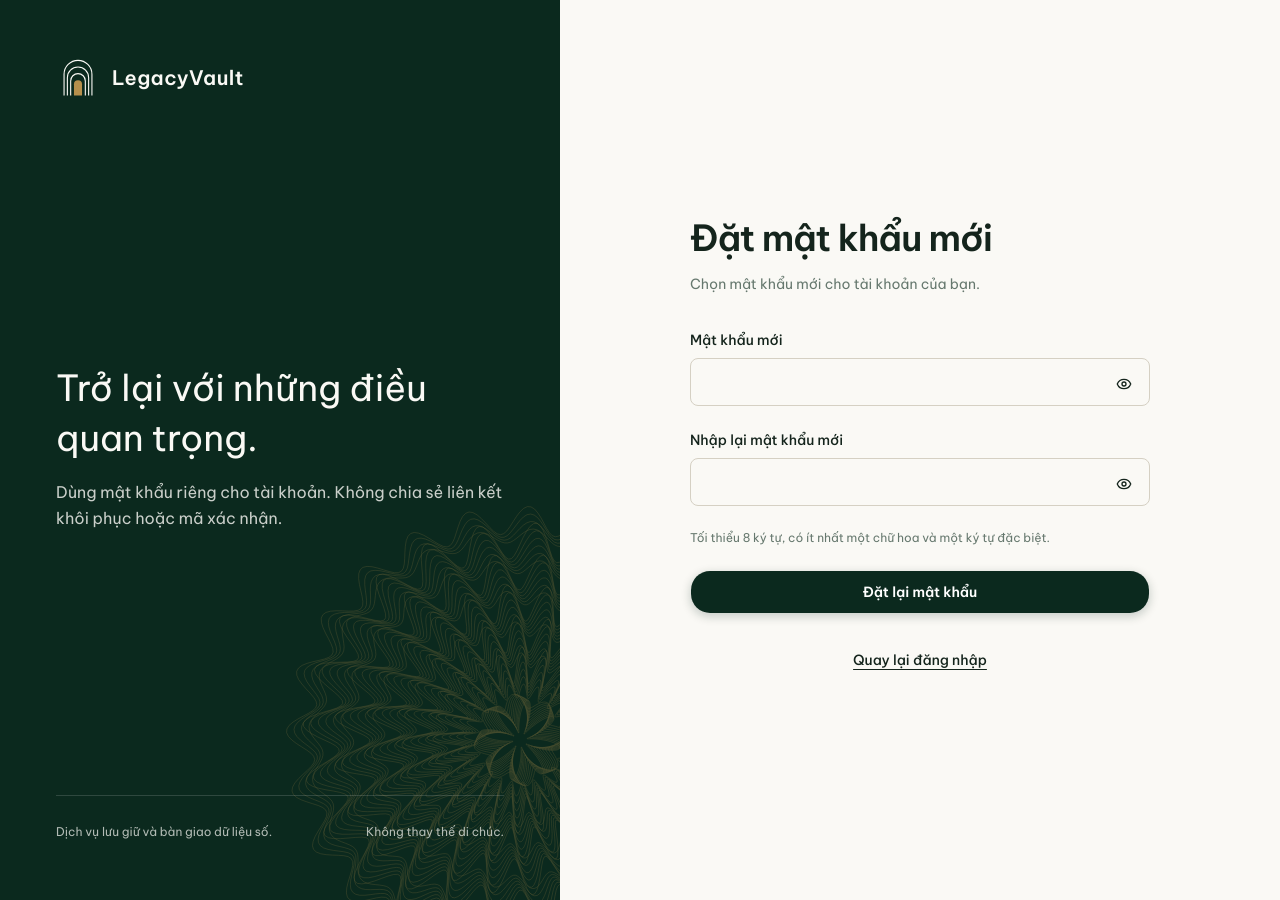
Test case: retains the form on network failure without claiming success
Type "Abcdefg!" into the password field labelled "Mật khẩu mới". click: (920, 382)
box: [690,358,1150,406]
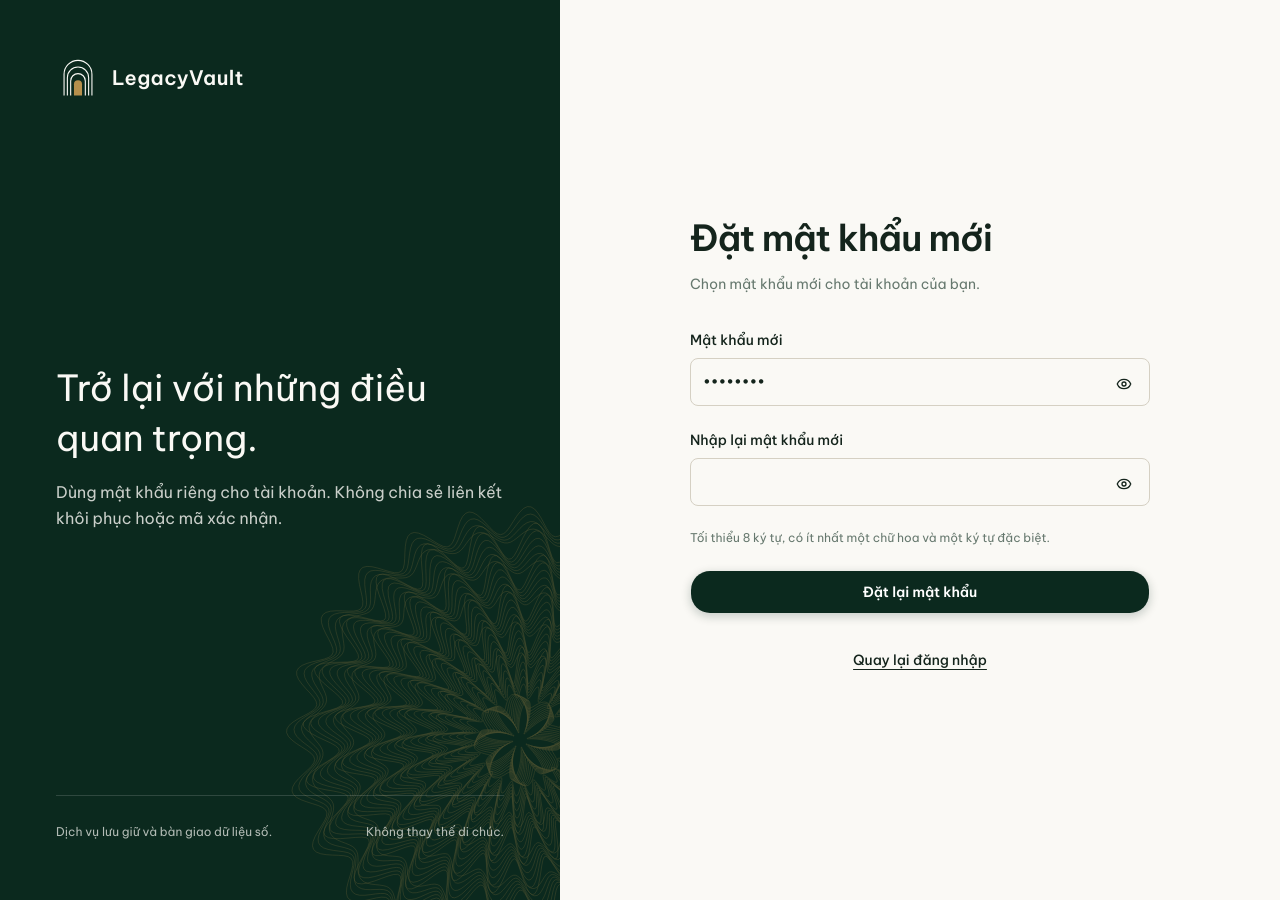
Type "Abcdefg!" into the password field labelled "Nhập lại mật khẩu mới". click: (920, 482)
box: [690,458,1150,506]
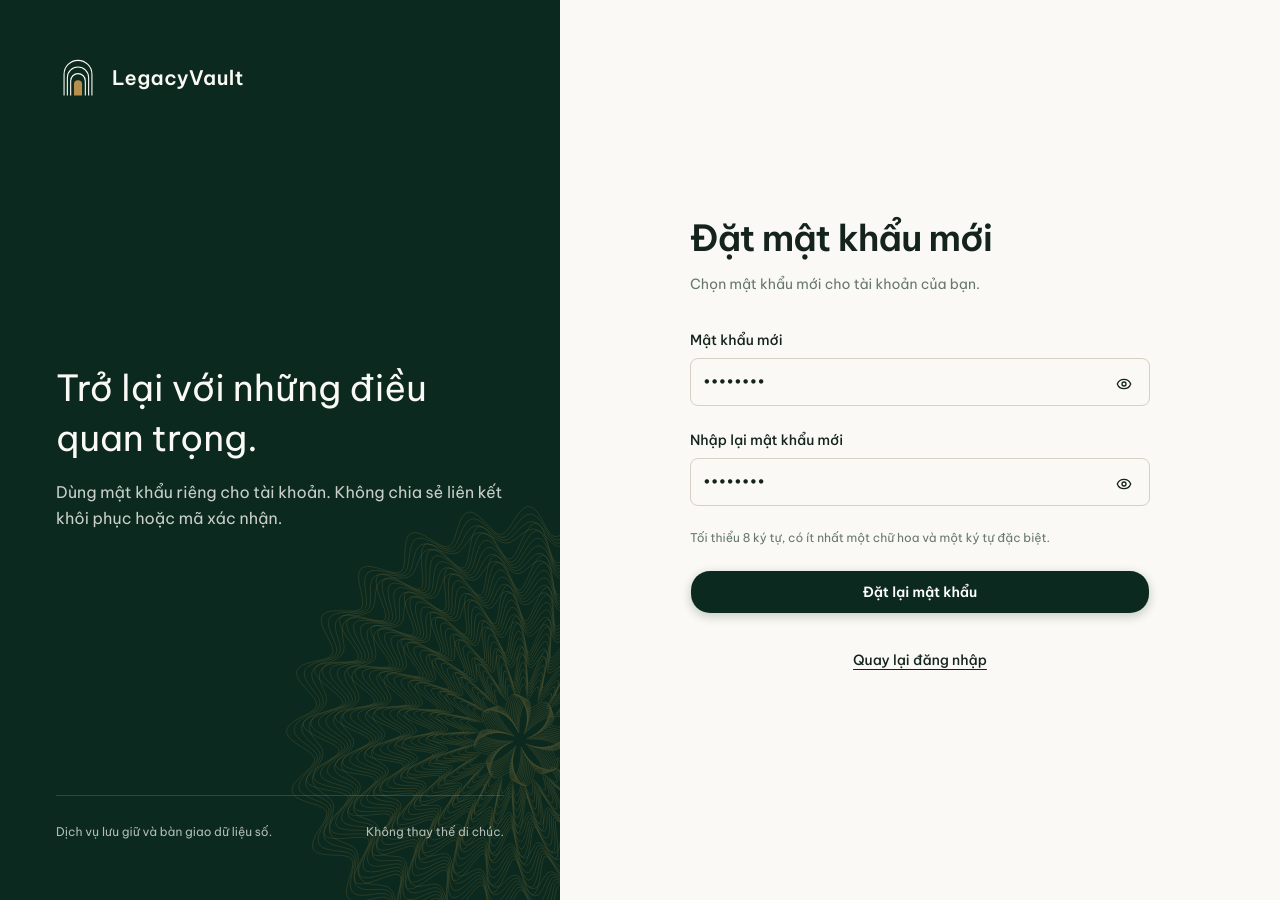
Click the button "Đặt lại mật khẩu". click: (920, 592)
box: [690,570,1150,614]
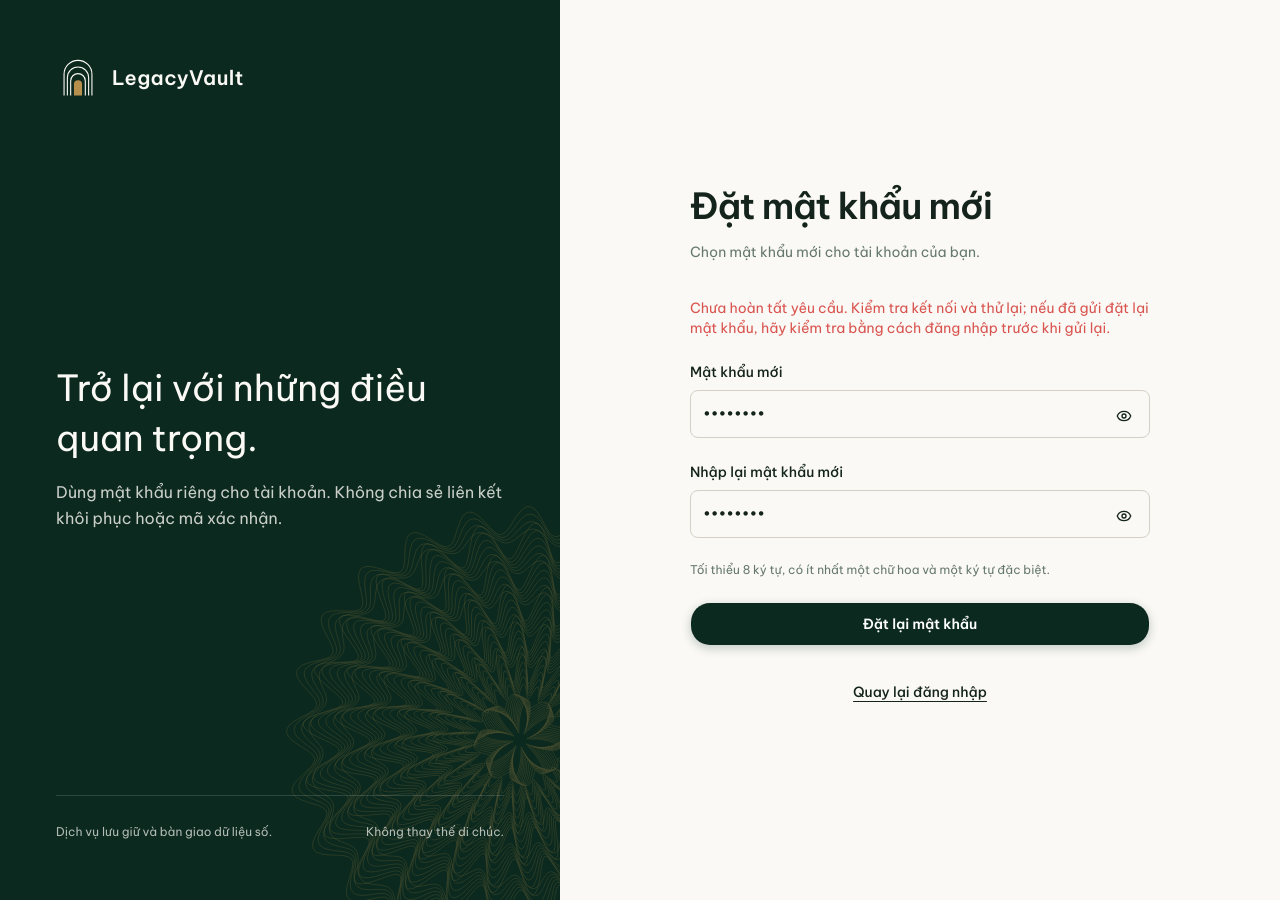
Check: the message is shown, box [690,298,1150,338]
